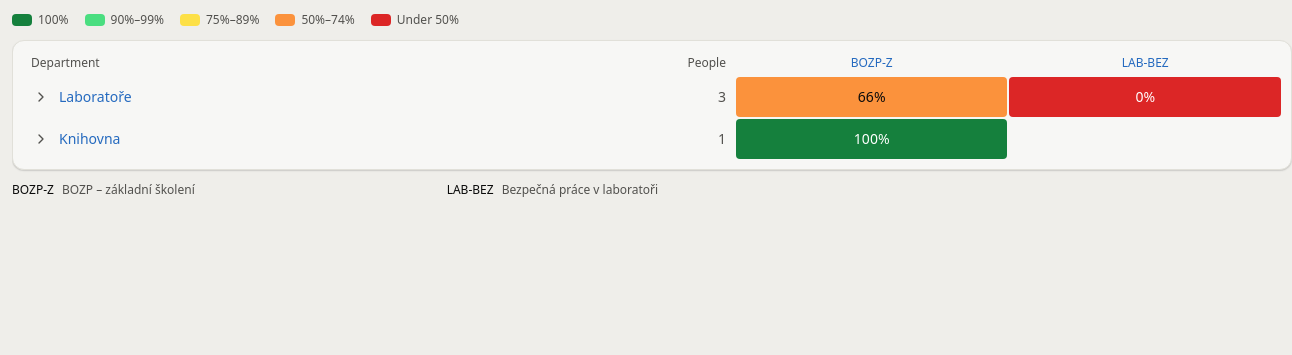
Test: compliance matrix › opens a department into one row per person, aligned under the courses
Expected: the link "Černá Marie" is not shown
Expected: the list "In the people rows:" is not shown
Click the button named "People in Laboratoře".
click(41, 97)  # box [27,83,55,111]
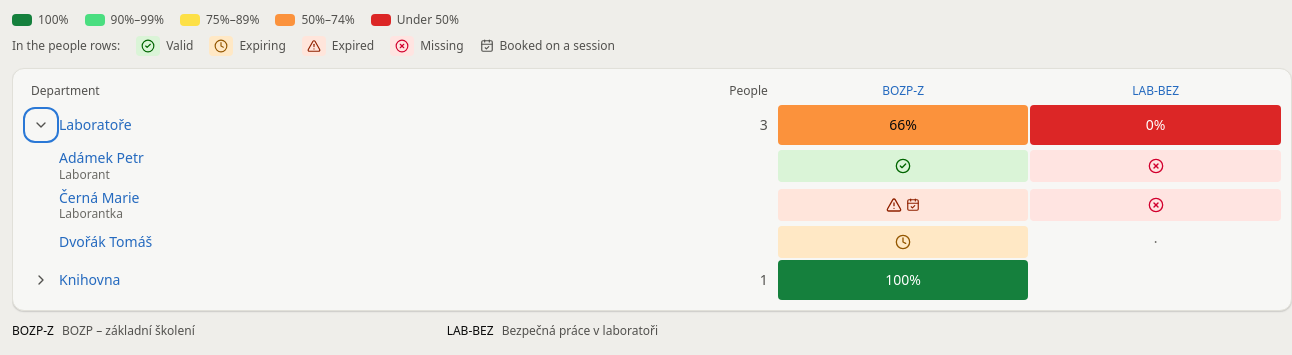
Expected: the button named "People in Laboratoře" is expanded
Expected: the text "Laborantka" is shown, [59,205,123,222]
Expected: the list "In the people rows:" shows "Booked on a session", [500,37,615,54]
Click the button named "People in Laboratoře".
click(41, 125)  # box [27,111,55,139]
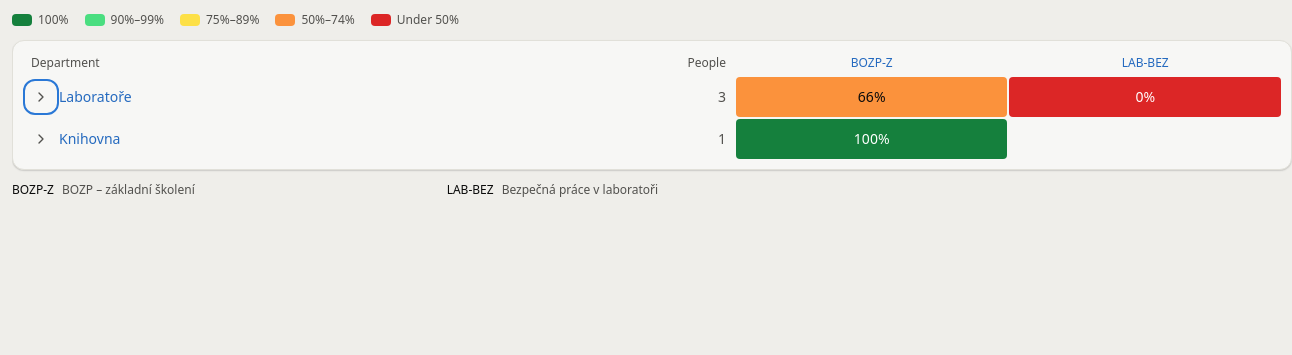
Expected: the link "Černá Marie" is gone
